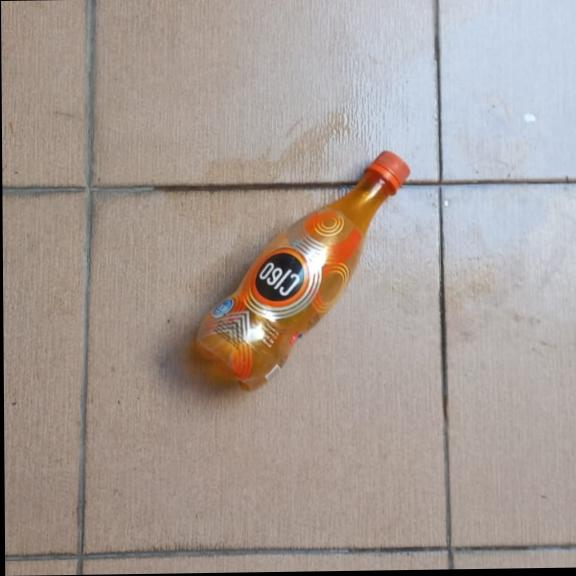Plastik: (194, 149, 411, 394)
